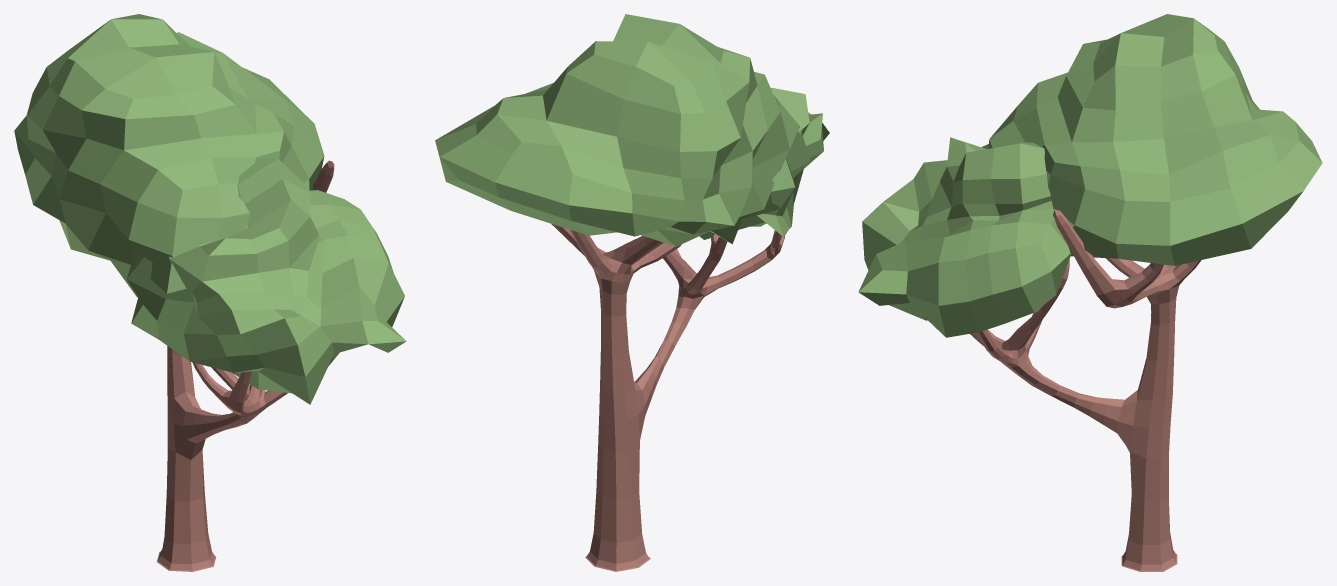
The model's file is tree_2.glb.
The picture shows the model from 3 angles, left to right: view 1: azimuth 30°, elevation 25°; view 2: azimuth 150°, elevation 25°; view 3: azimuth 270°, elevation 25°; orthographic projection. The views are drawn at different scales.
Parts seen in each view (by area): view 1: CommonTree_2; view 2: CommonTree_2; view 3: CommonTree_2.
Boxes of the visible parts, box(x1,y1,x2,y2) form: CommonTree_2: box(14, 14, 406, 571); CommonTree_2: box(435, 14, 829, 571); CommonTree_2: box(858, 14, 1322, 571).
Size of the model in its own units: 1.66 by 3.12 by 2.54.
